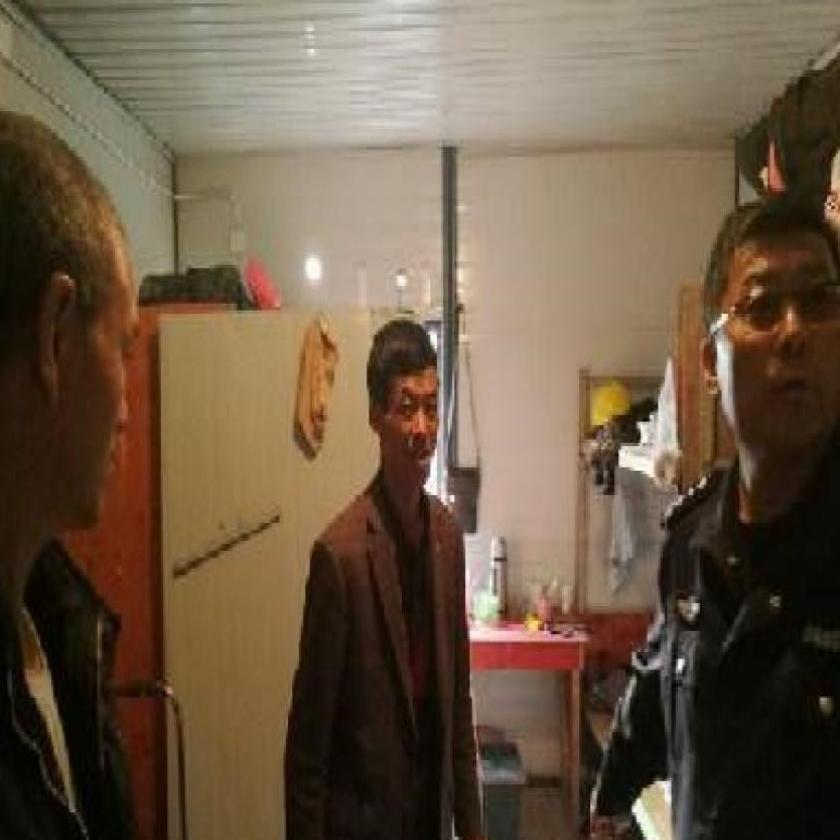Sin_casco: (0, 108, 144, 562), (686, 192, 840, 473), (360, 317, 442, 499)
